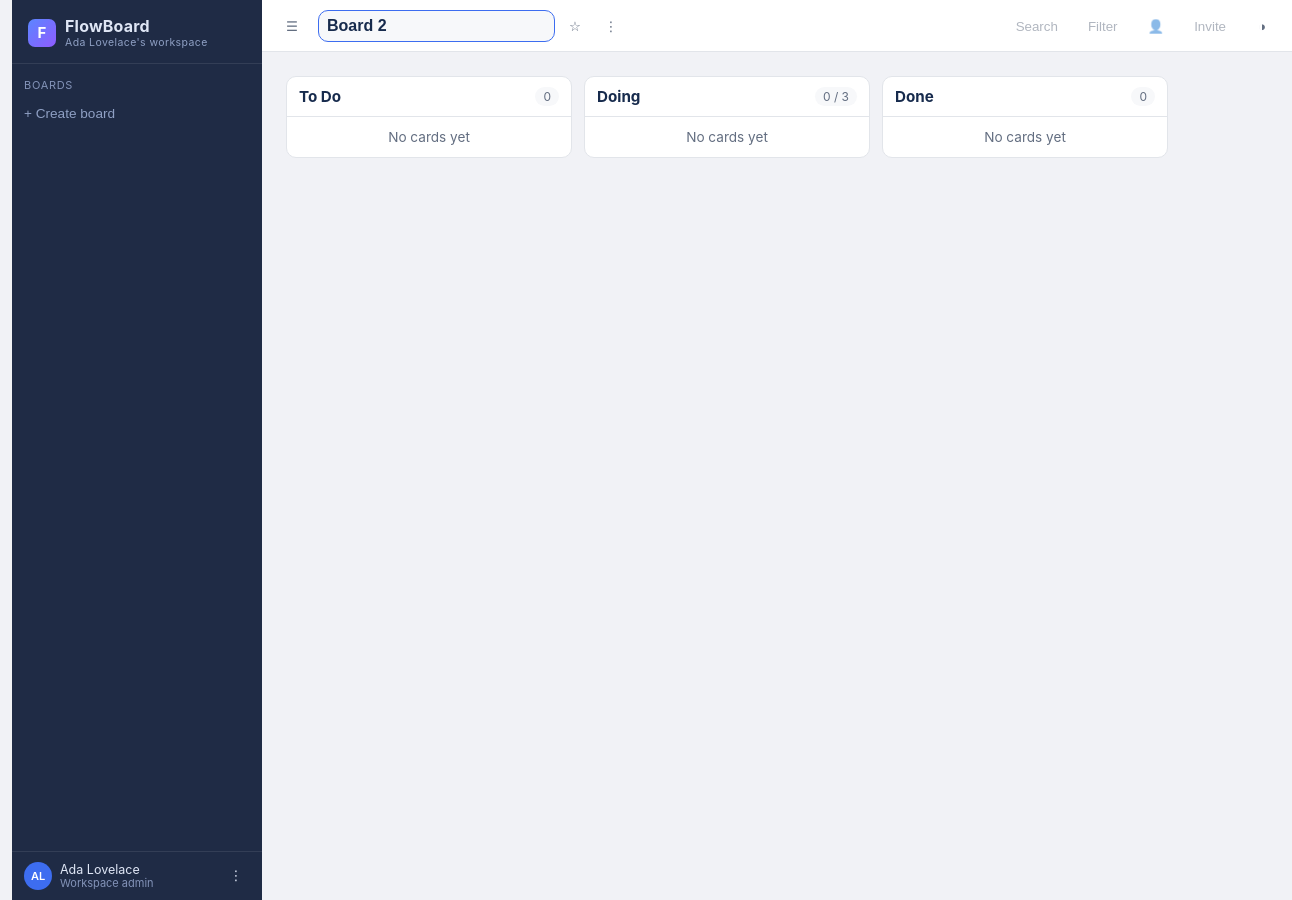
Test: BoardTitle (FS §4.2, B-03, FB-04 spec AC 11) › blur persists the trimmed value
Replace the text in the field named "Board name" with "Renamed". click: (436, 26)
box: [318,10,555,42]
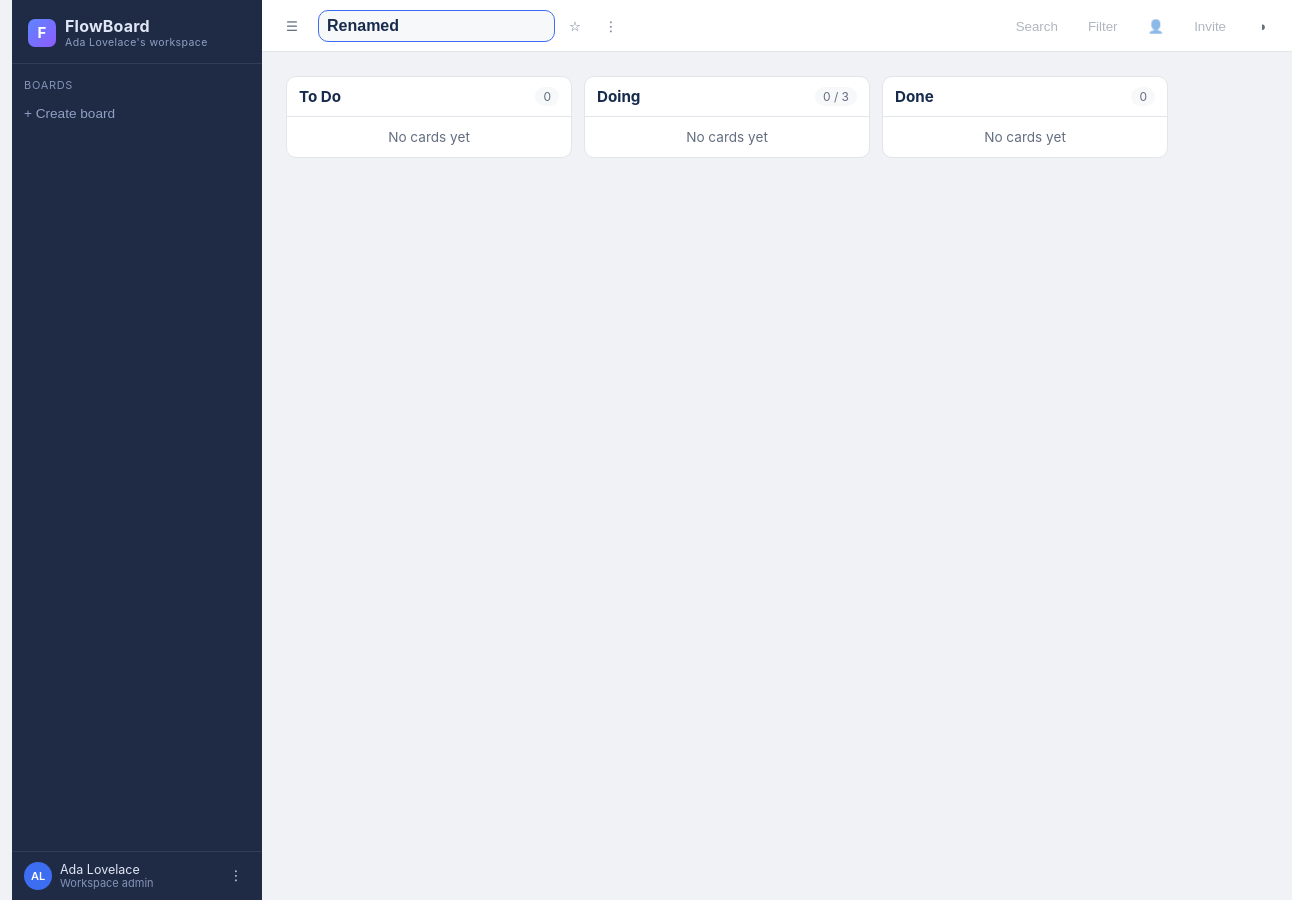
Leave the field named "Board name", box [318,10,555,42]
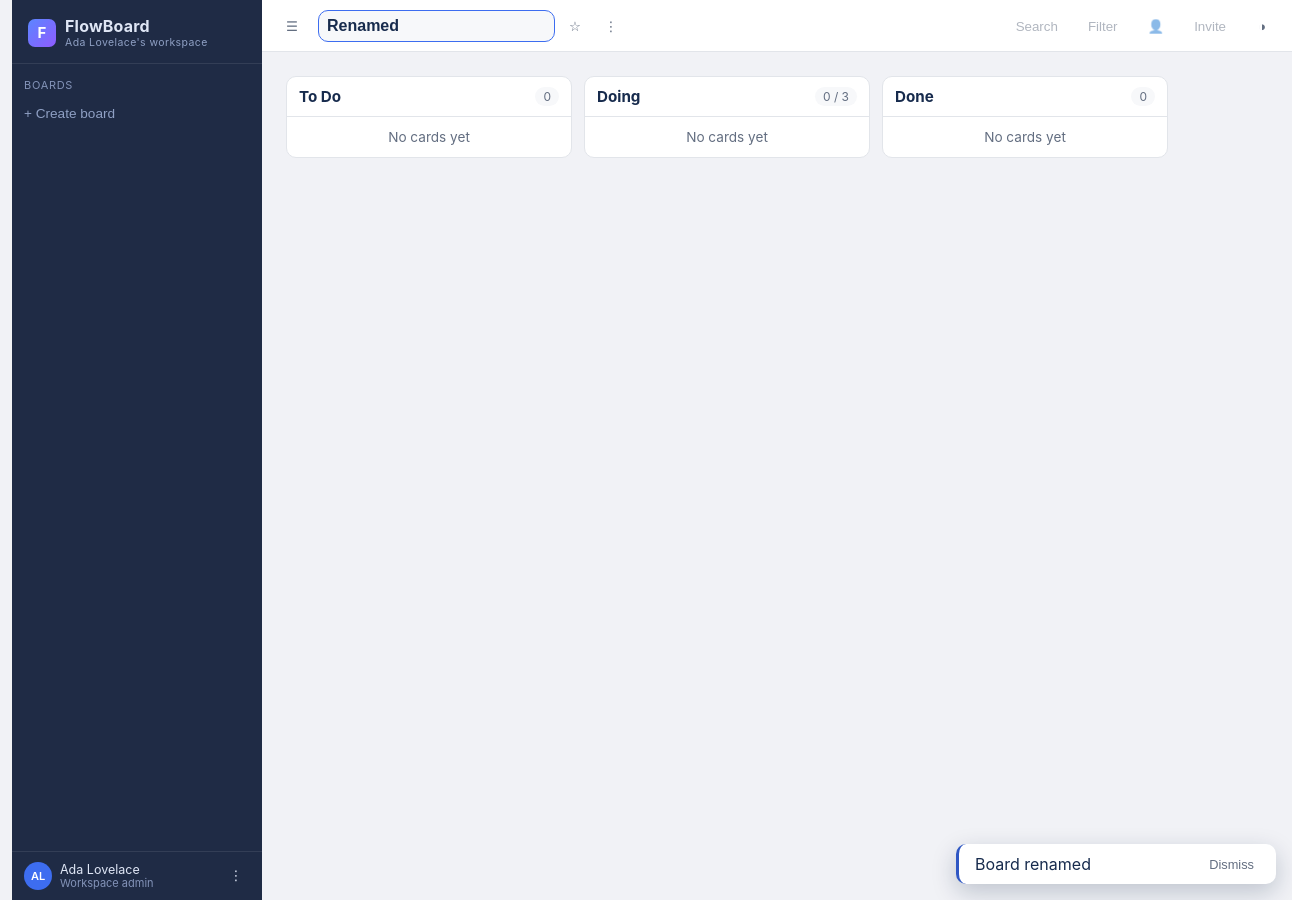
Expected: the text "Board renamed" is shown, [975,854,1091,874]
